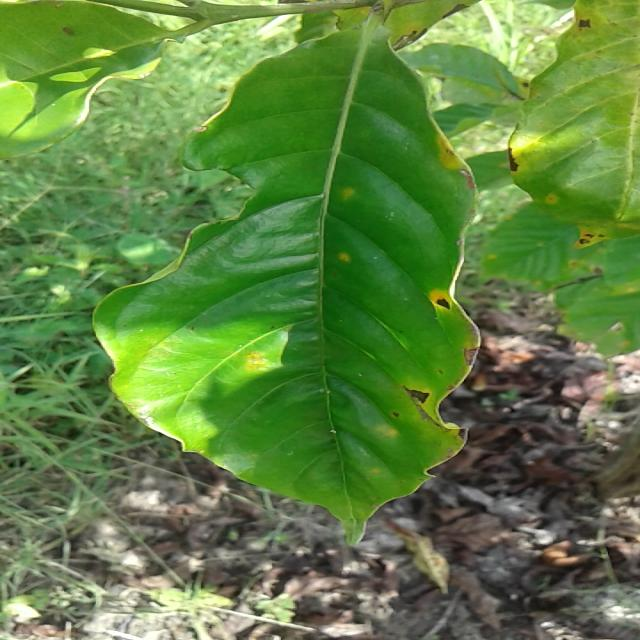Enfermedad-Roya: (92, 18, 481, 545)
